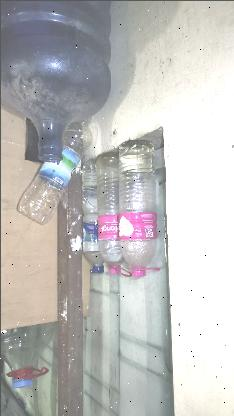Plastic Bottle: (15, 118, 90, 224), (118, 140, 164, 276), (96, 152, 124, 272), (81, 154, 107, 272)
